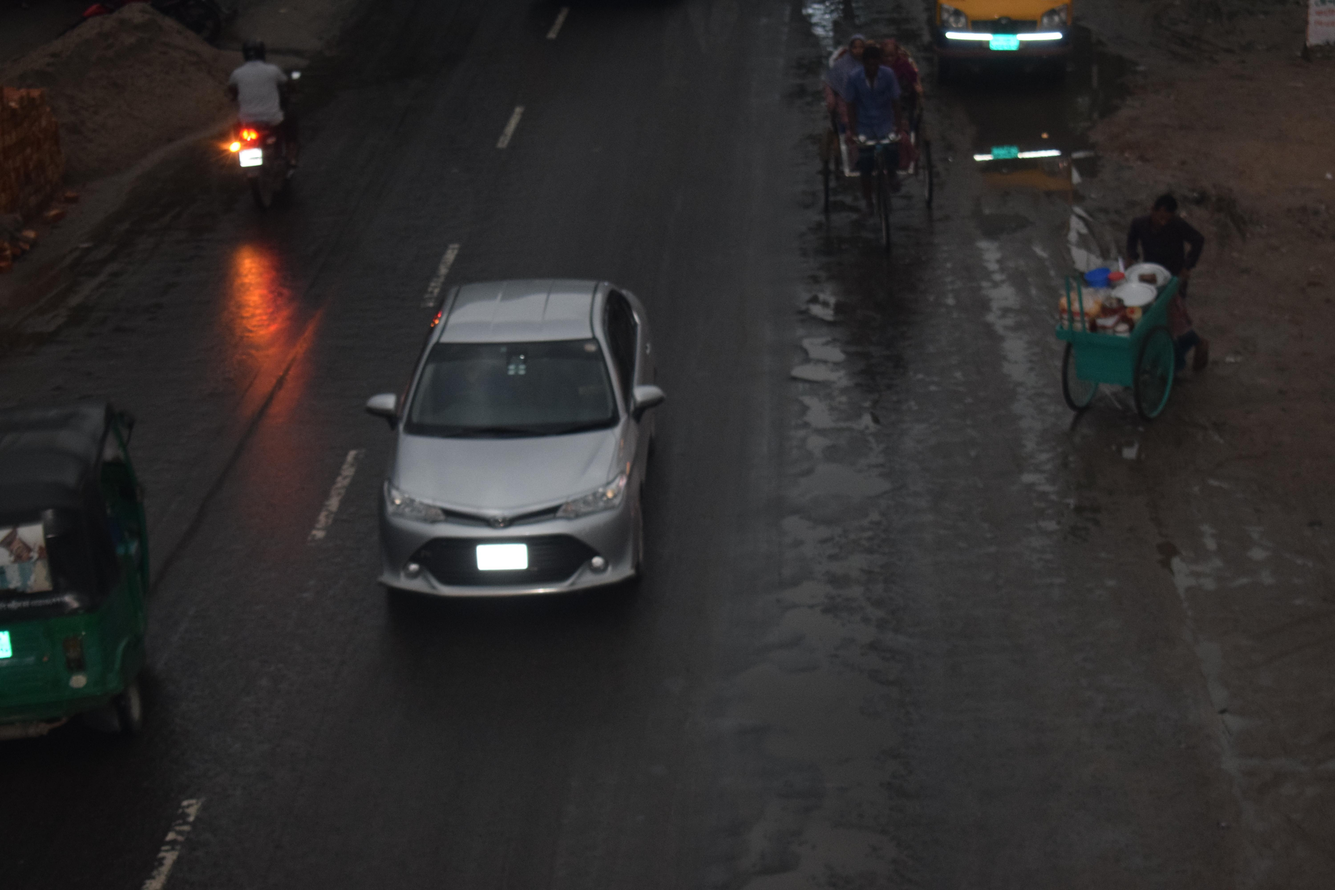Bike: (179, 0, 368, 225)
Car: (305, 229, 711, 652), (1005, 140, 1242, 463), (790, 4, 978, 302)
